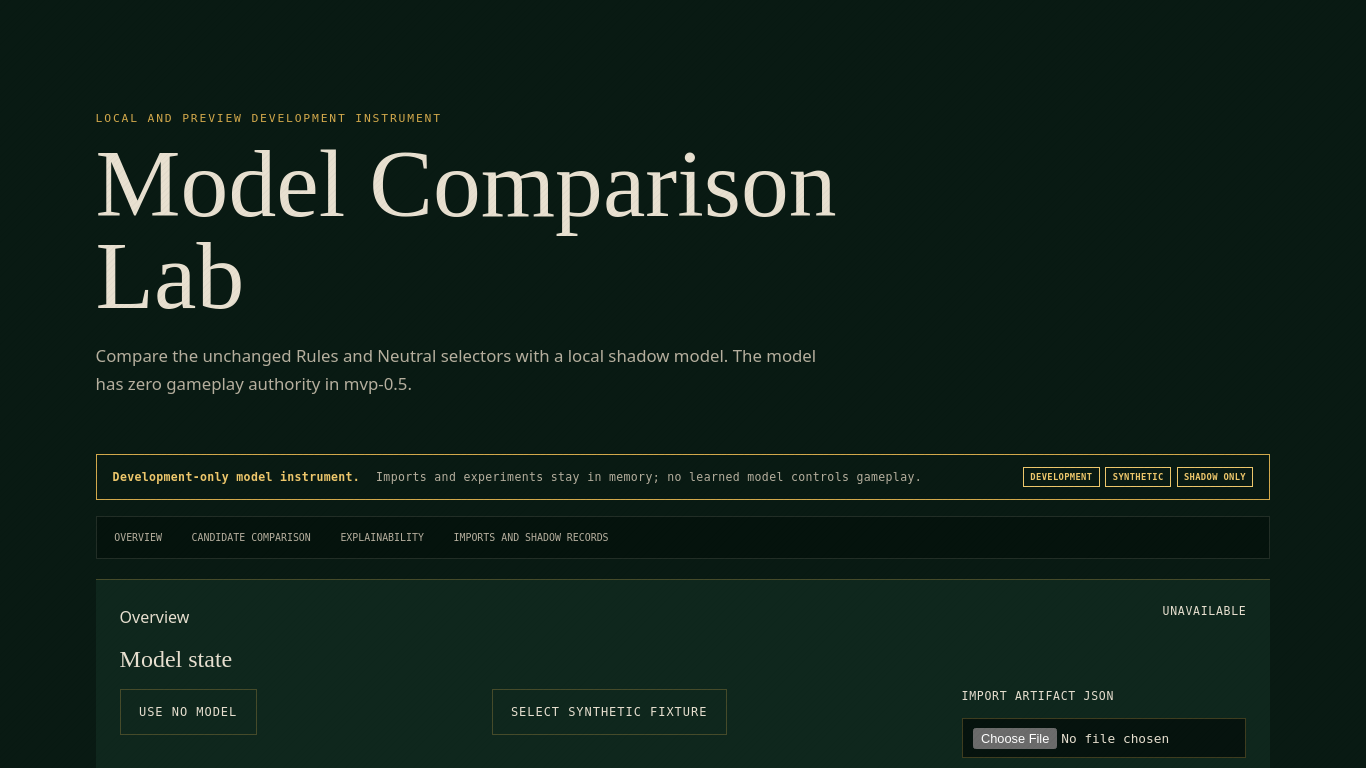
Resonant Ruins Model Comparison Lab › compares an explicitly selected fixture without persisting state
Expected: the heading "Model Comparison Lab" is shown, x1=96 y1=131 x2=836 y2=329
Expected: the text "Imports and experiments stay in memory" is shown, x1=376 y1=470 x2=922 y2=484
Click the button "Select synthetic fixture": (609, 712) x1=492 y1=689 x2=727 y2=735
(page scrolled)
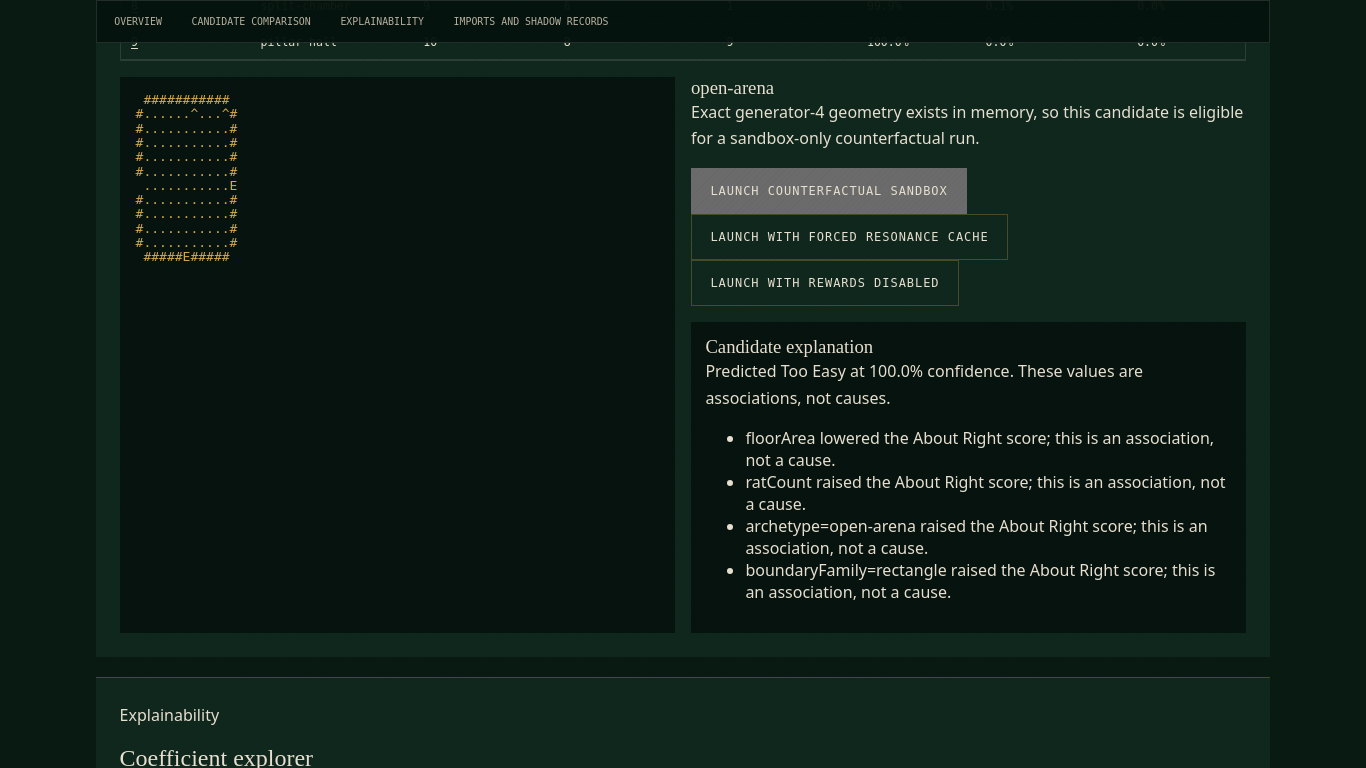
Expected: the text "associations, not causes" is shown, x1=705 y1=360 x2=1143 y2=409
